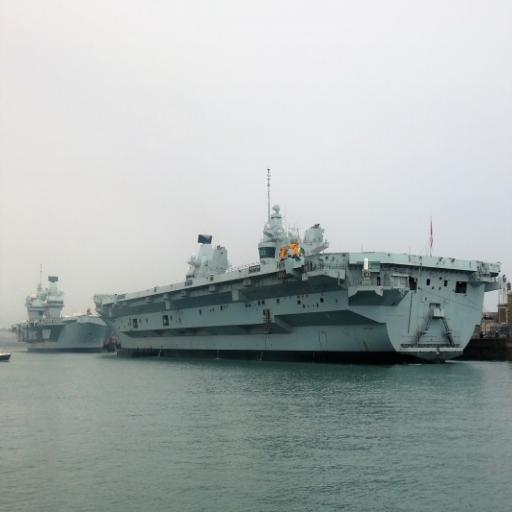Portanaves: (94, 161, 499, 368), (6, 274, 116, 353)
